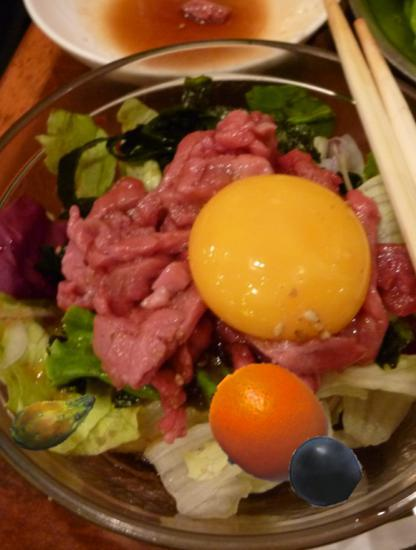Cactus: (10, 376, 102, 468)
Grape: (288, 436, 359, 507)
Grapefruit: (205, 361, 331, 487)
